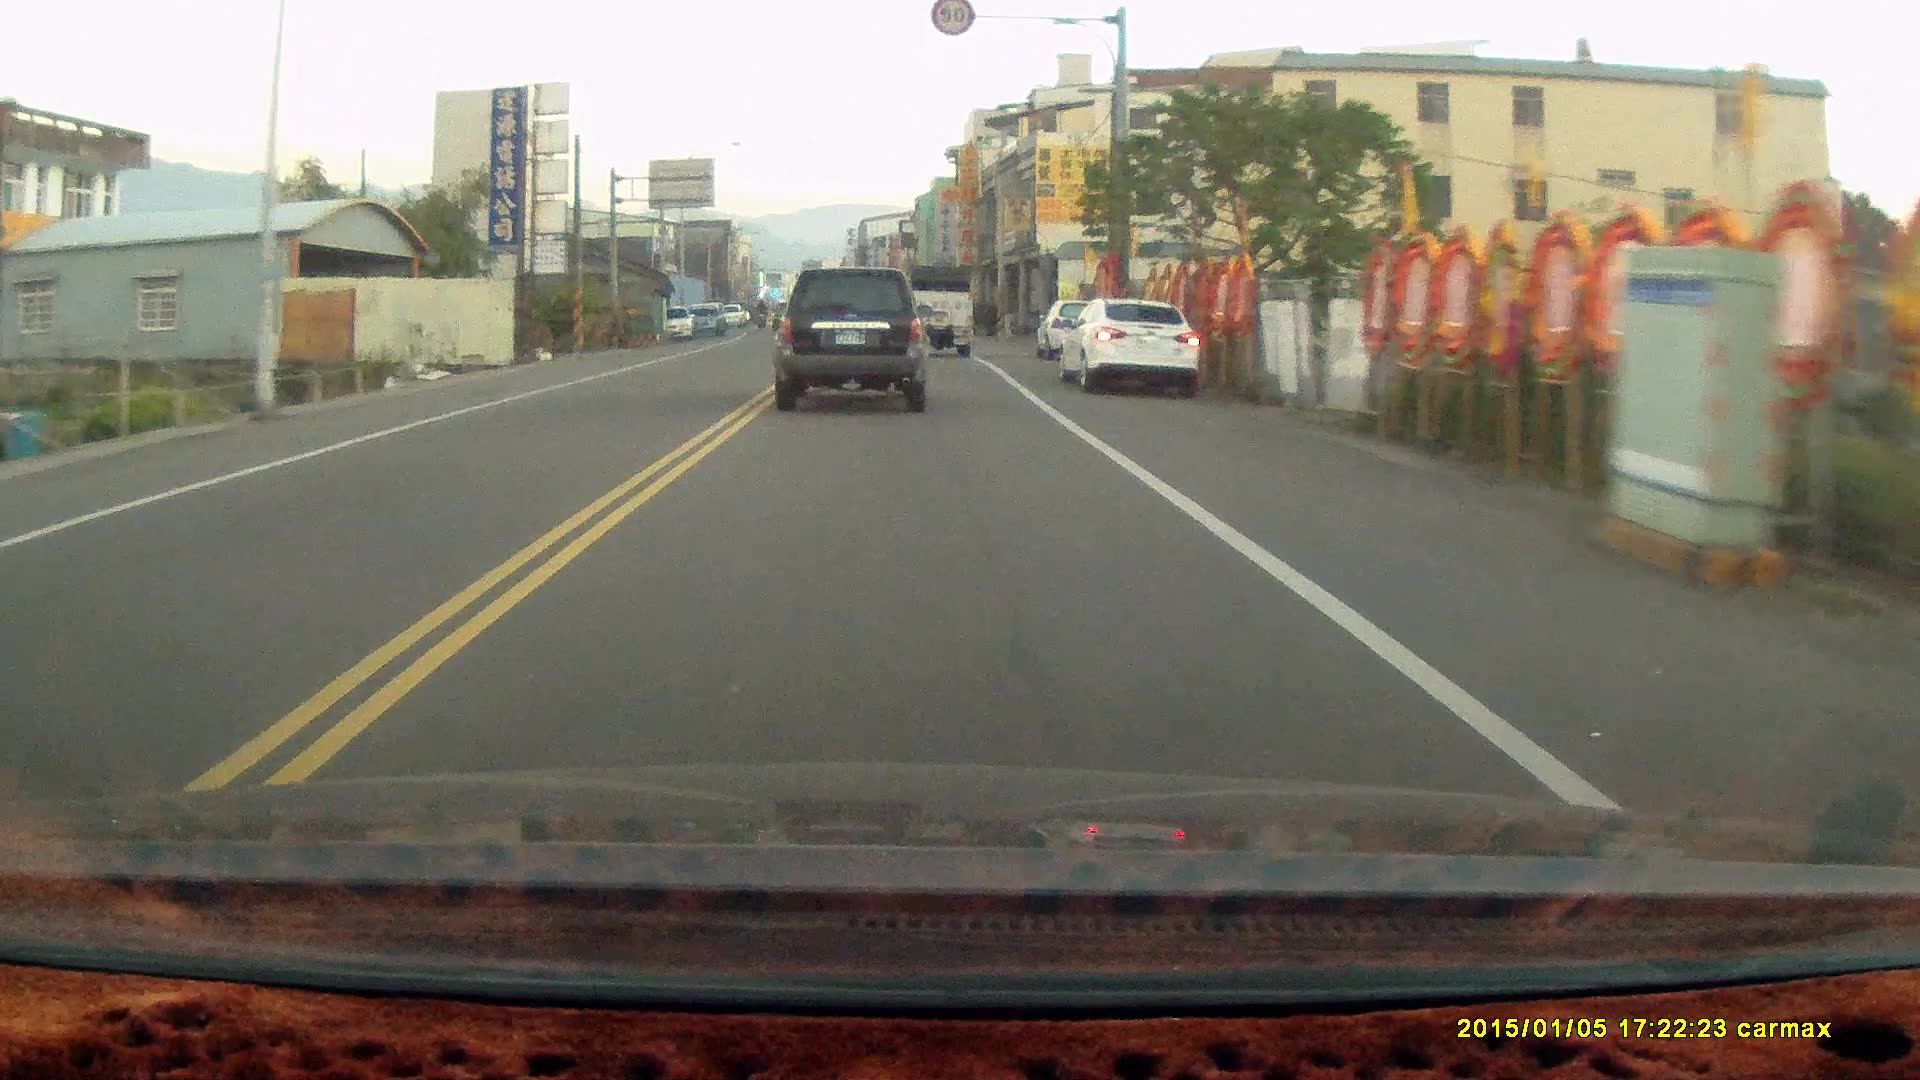vehicle: (771, 262, 934, 413), (1062, 295, 1197, 397), (905, 262, 980, 364)
